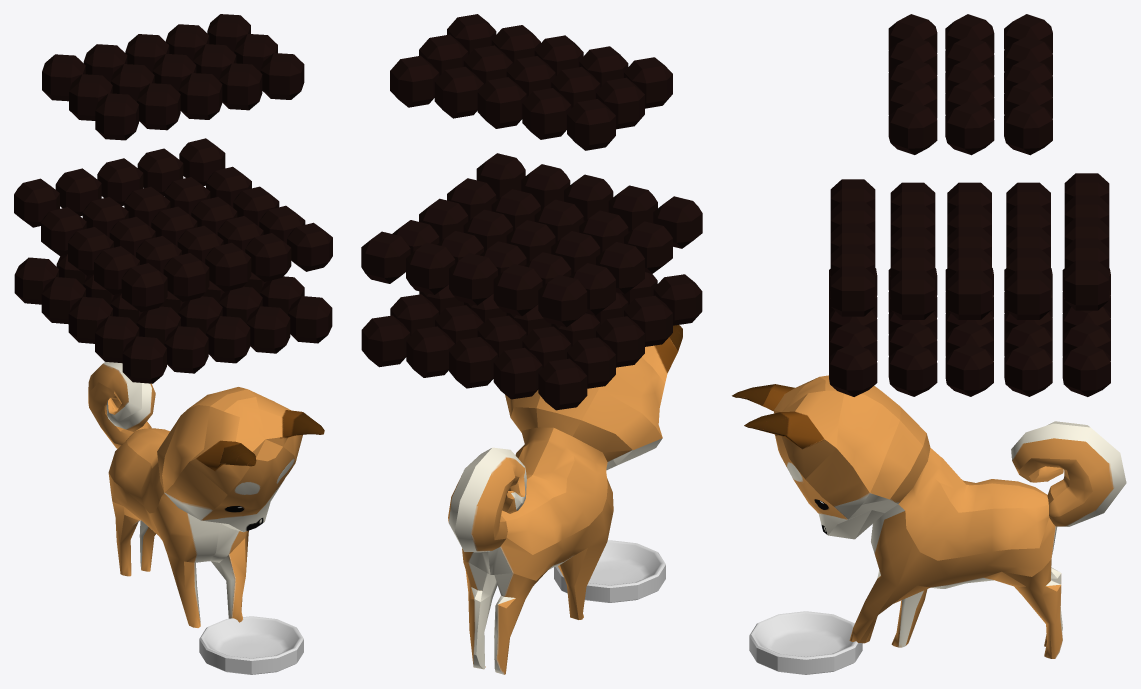
The model's file is emptyBowl_frame16.obj.
The picture shows the model from 3 angles, left to right: view 1: azimuth 30°, elevation 25°; view 2: azimuth 150°, elevation 25°; view 3: azimuth 270°, elevation 25°; orthographic projection. The views are drawn at different scales.
Parts seen in each view (by area): view 1: newRigging1:BodzL1, FressnapfLeer:pCylinder1, FressnapfFull:pCube46, FressnapfFull:pCube57, FressnapfFull:pCube45, FressnapfFull:pCube36, FressnapfFull:pCube43, FressnapfFull:pCube50, FressnapfFull:pCube48, FressnapfFull:pCube42, FressnapfFull:pCube49, FressnapfFull:pCube59 (+44 smaller); view 2: newRigging1:BodzL1, FressnapfLeer:pCylinder1, FressnapfFull:pCube51, FressnapfFull:pCube64, FressnapfFull:pCube39, FressnapfFull:pCube55, FressnapfFull:pCube54, FressnapfFull:pCube38, FressnapfFull:pCube53, FressnapfFull:pCube41, FressnapfFull:pCube61, FressnapfFull:pCube37 (+48 smaller); view 3: newRigging1:BodzL1, FressnapfLeer:pCylinder1, FressnapfFull:pCube10, FressnapfFull:pCube31, FressnapfFull:pCube36, FressnapfFull:pCube4, FressnapfFull:pCube15, FressnapfFull:pCube41, FressnapfFull:pCube50, FressnapfFull:pCube55, FressnapfFull:pCube58, FressnapfFull:pCube65 (+42 smaller).
Part boxes in pixels (box(x1,y1,x2,y2)): newRigging1:BodzL1: box(88, 362, 324, 627); FressnapfLeer:pCylinder1: box(199, 616, 303, 674); FressnapfFull:pCube46: box(122, 336, 166, 383); FressnapfFull:pCube57: box(121, 263, 167, 311); FressnapfFull:pCube45: box(95, 93, 138, 140); FressnapfFull:pCube36: box(260, 53, 304, 99); FressnapfFull:pCube43: box(178, 73, 222, 119); FressnapfFull:pCube50: box(288, 296, 332, 343); FressnapfFull:pCube48: box(206, 316, 250, 363); FressnapfFull:pCube42: box(137, 83, 180, 130); FressnapfFull:pCube49: box(164, 326, 208, 373); FressnapfFull:pCube59: box(163, 253, 209, 301); newRigging1:BodzL1: box(448, 325, 682, 674); FressnapfLeer:pCylinder1: box(554, 540, 665, 602); FressnapfFull:pCube51: box(538, 358, 587, 410); FressnapfFull:pCube64: box(538, 275, 587, 327); FressnapfFull:pCube39: box(567, 99, 615, 150); FressnapfFull:pCube55: box(361, 315, 410, 367); FressnapfFull:pCube54: box(493, 347, 542, 399); FressnapfFull:pCube38: box(477, 77, 526, 128); FressnapfFull:pCube53: box(449, 337, 497, 388); FressnapfFull:pCube41: box(390, 55, 439, 107); FressnapfFull:pCube61: box(493, 264, 542, 316); FressnapfFull:pCube37: box(522, 88, 571, 139); newRigging1:BodzL1: box(732, 375, 1126, 658); FressnapfLeer:pCylinder1: box(749, 611, 862, 674); FressnapfFull:pCube10: box(888, 343, 937, 396); FressnapfFull:pCube31: box(945, 101, 994, 155); FressnapfFull:pCube36: box(888, 101, 937, 154); FressnapfFull:pCube4: box(945, 343, 993, 396); FressnapfFull:pCube15: box(1004, 343, 1052, 396); FressnapfFull:pCube41: box(1004, 101, 1052, 155); FressnapfFull:pCube50: box(829, 343, 877, 396); FressnapfFull:pCube55: box(1062, 343, 1110, 396); FressnapfFull:pCube58: box(830, 266, 875, 316); FressnapfFull:pCube65: box(1064, 260, 1109, 310).
Size of the model in its own units: 5.73 by 14.49 by 8.85.
Materials: 3 (2 with a texture image).
